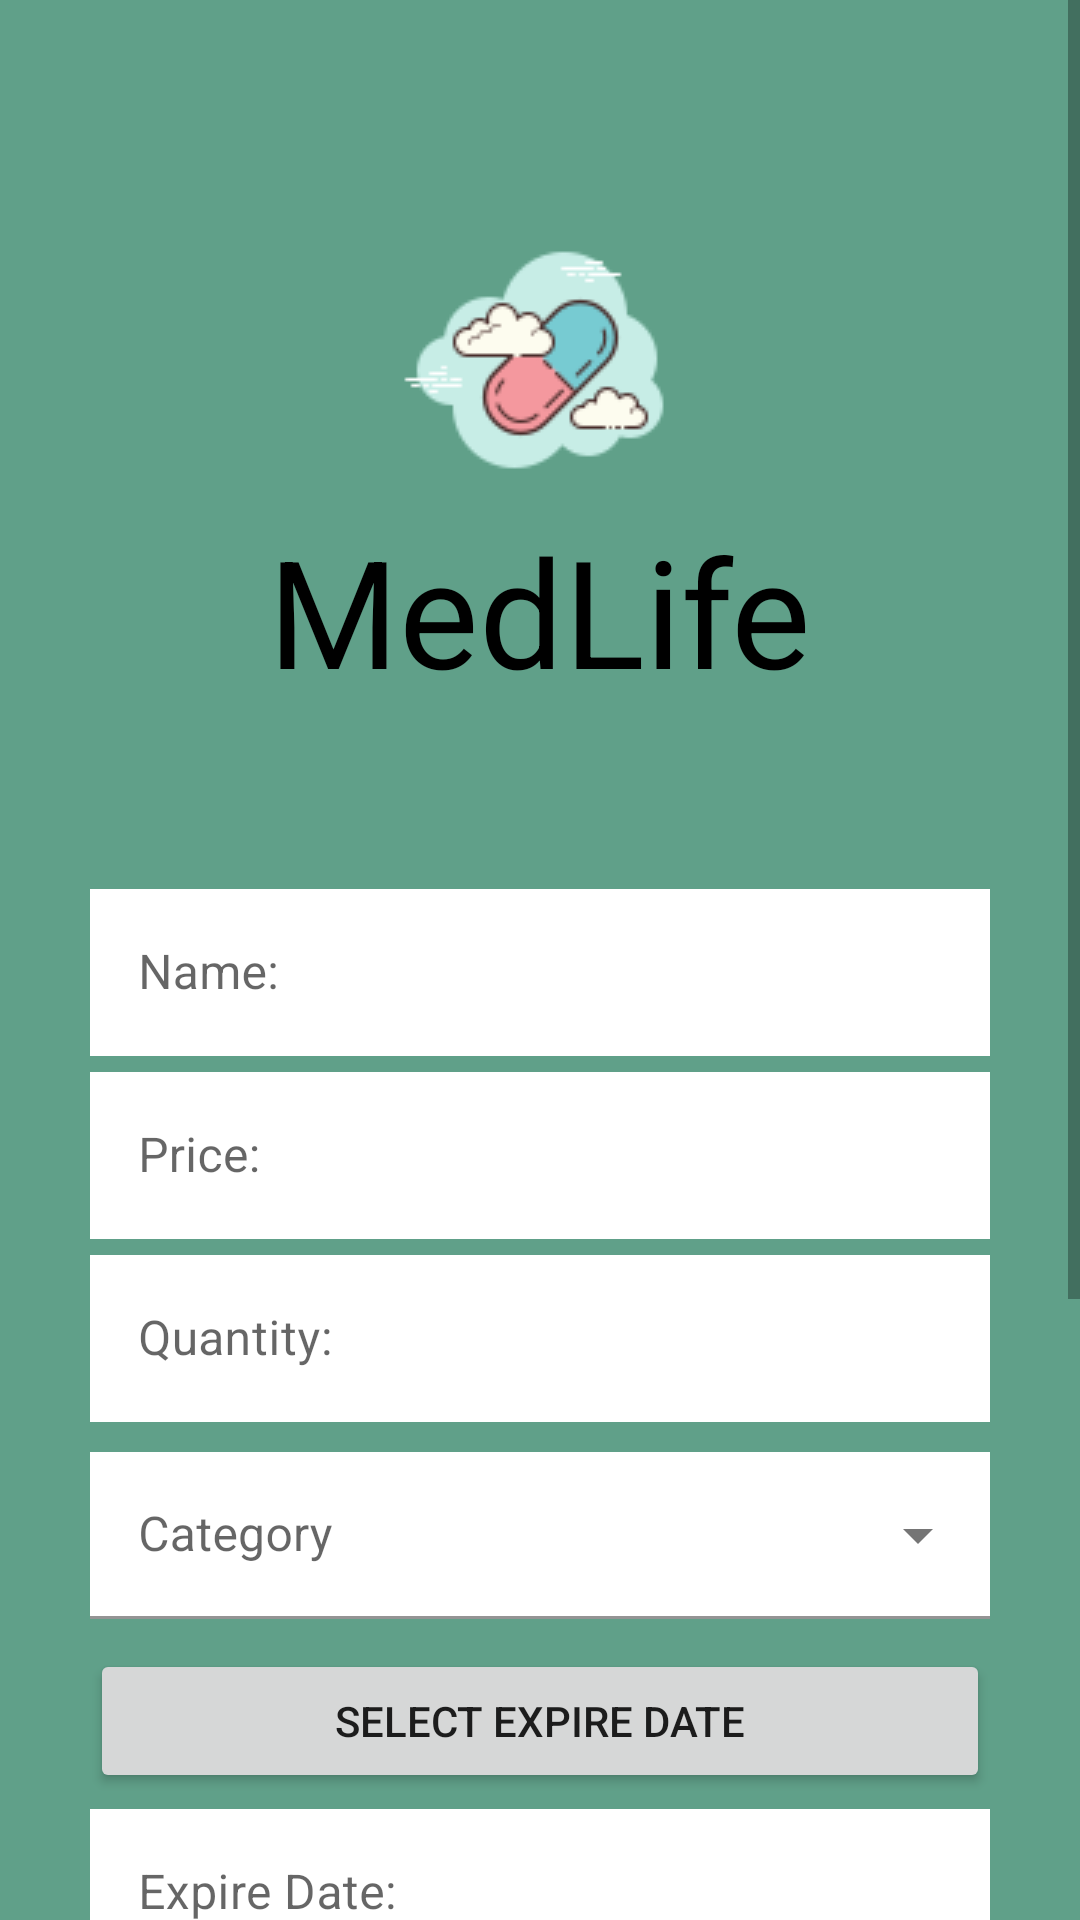

Icon bounding boxes for this 1080px x 1920px phone screenshot, format [x1, y1, x2, y2]:
pill: [404, 251, 664, 469]
